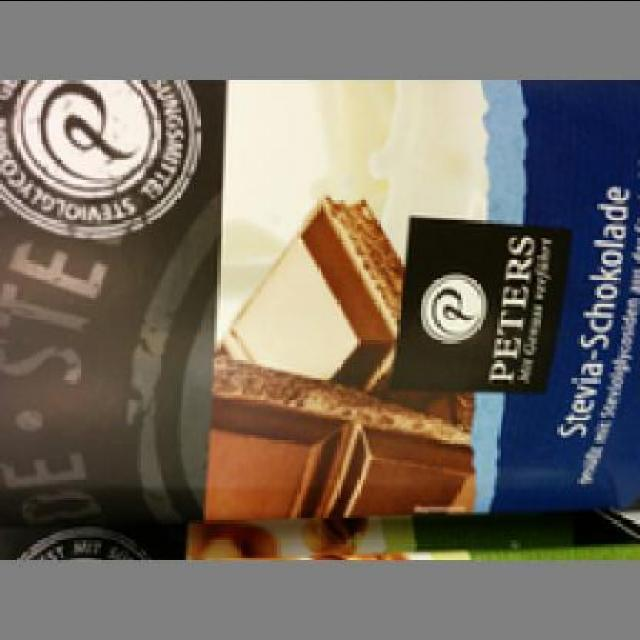Chocolate bar: (1, 86, 637, 529)
